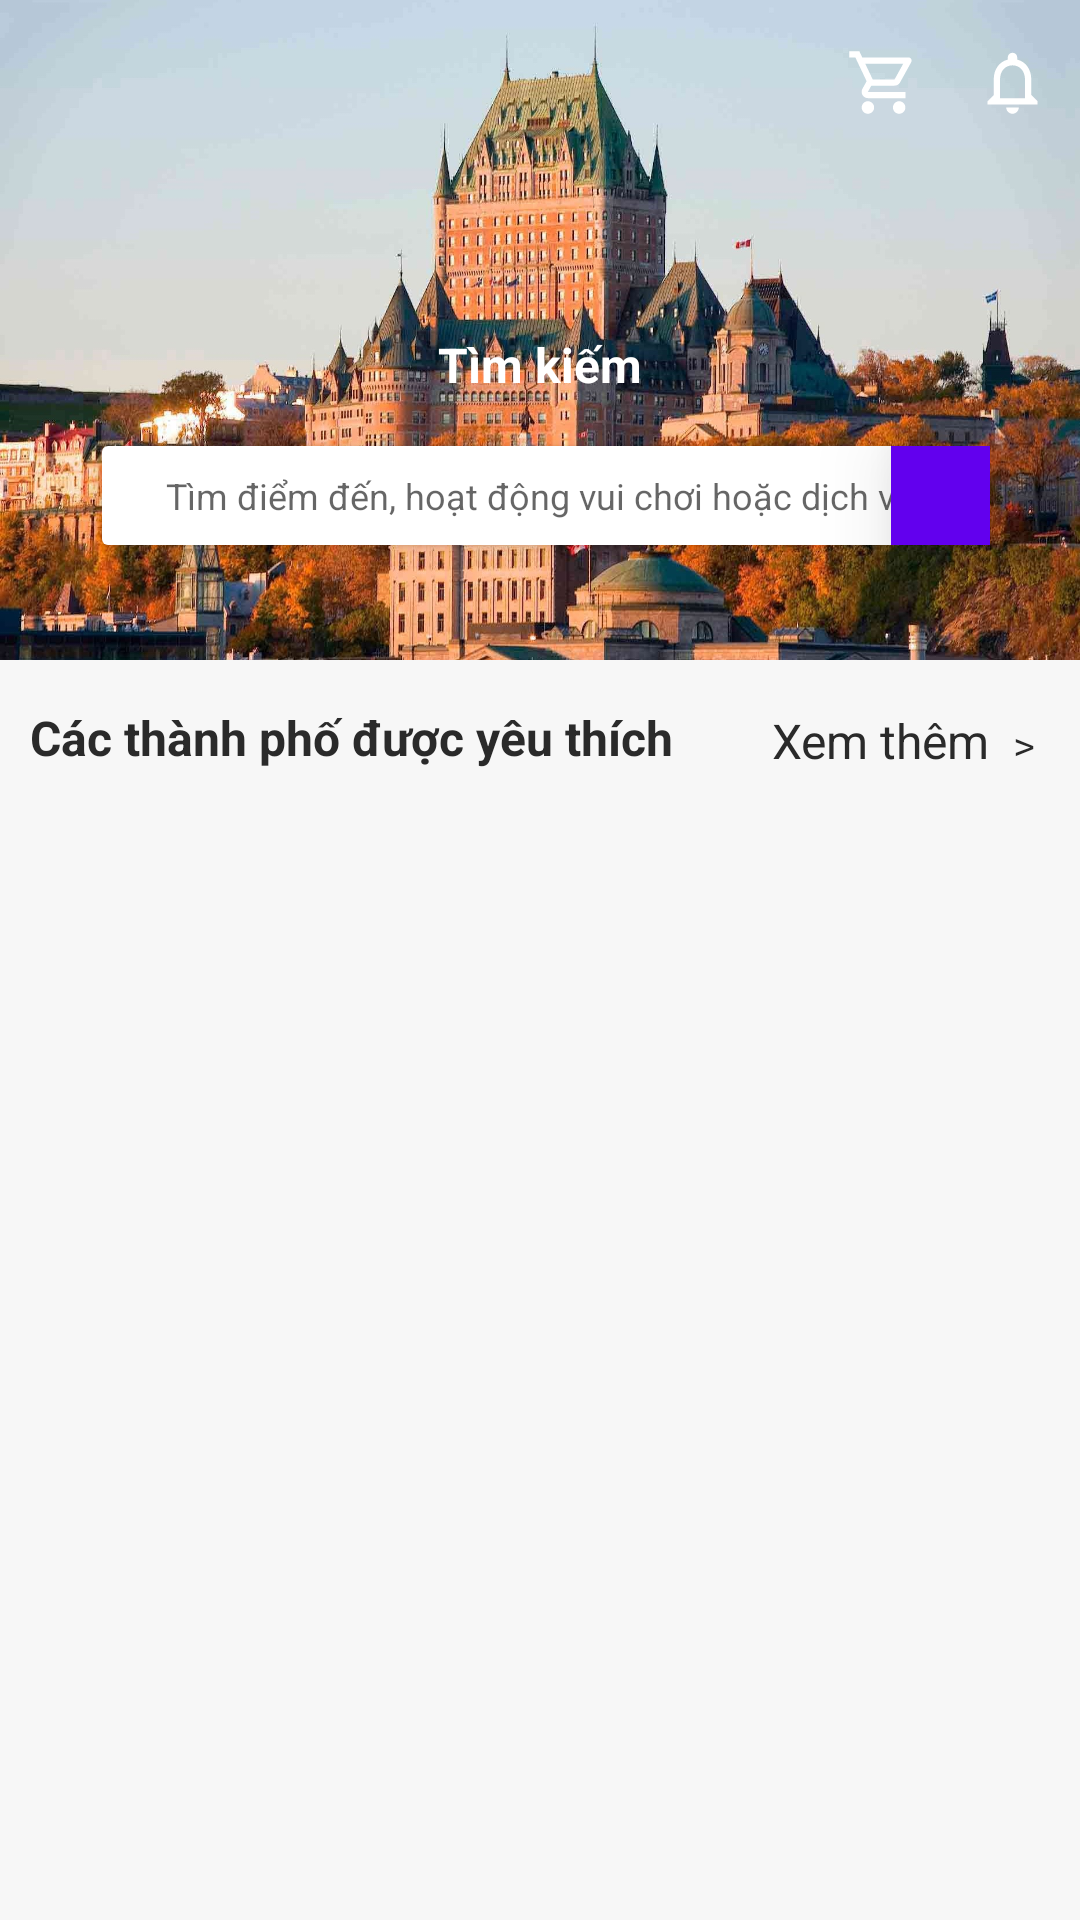

Icons on this 1080 x 1920 Android screen, each with the point to tap as point (x, y):
notifications: point (1012, 83)
shopping cart: point (880, 82)
